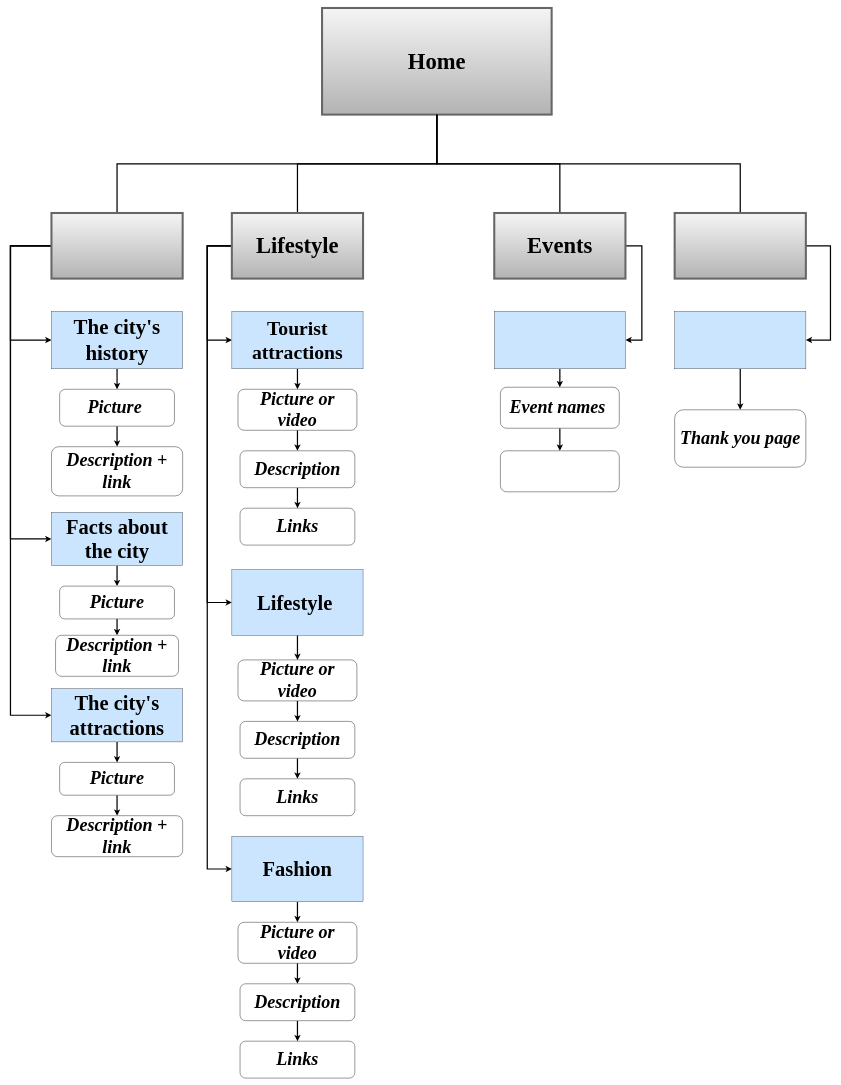
Image size: 841x1085. Some labels were removed from this diagram. The shapes that lost their labels are listed below. From the top down, each one's centre as x and y in pixels, then its label:
[116,245]: About
[740,245]: Connect With US
[559,340]: Events Date
[740,340]: Newletter form
[559,471]: Image + Description
